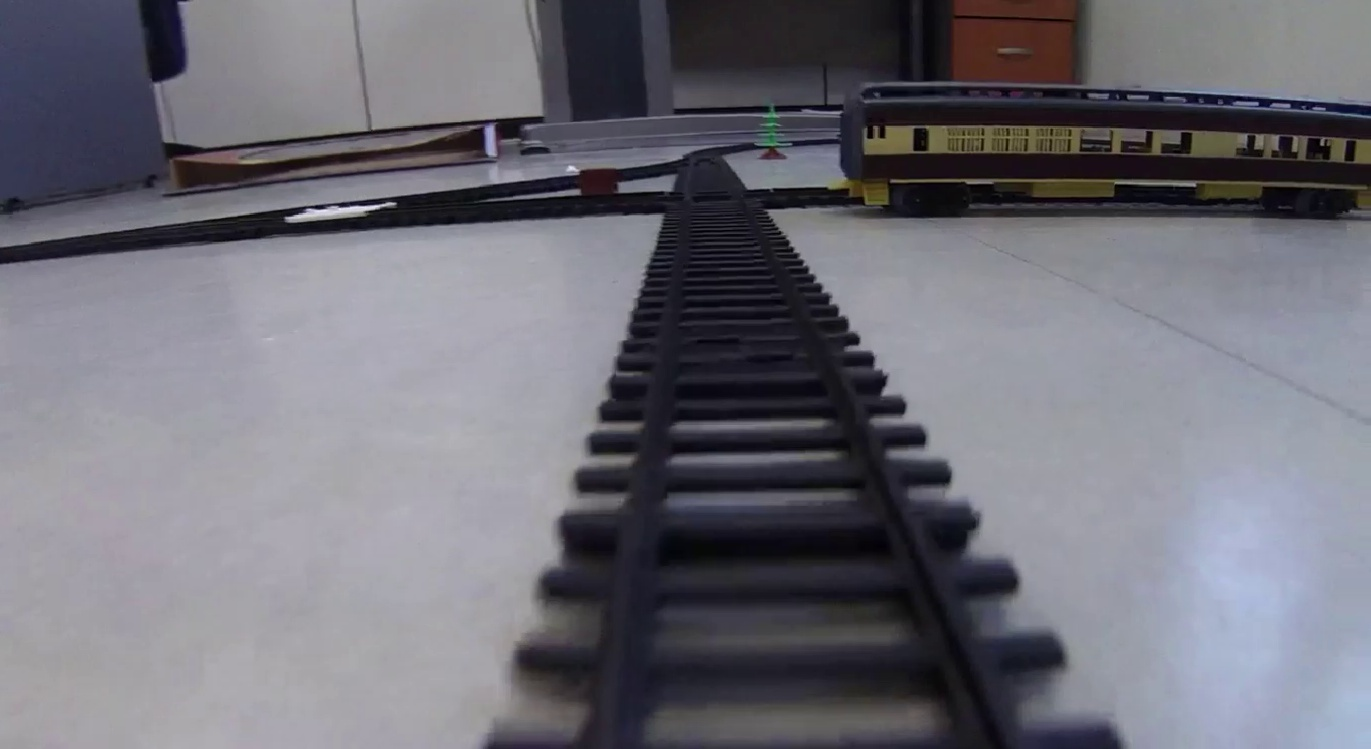tree: (751, 100, 794, 163)
